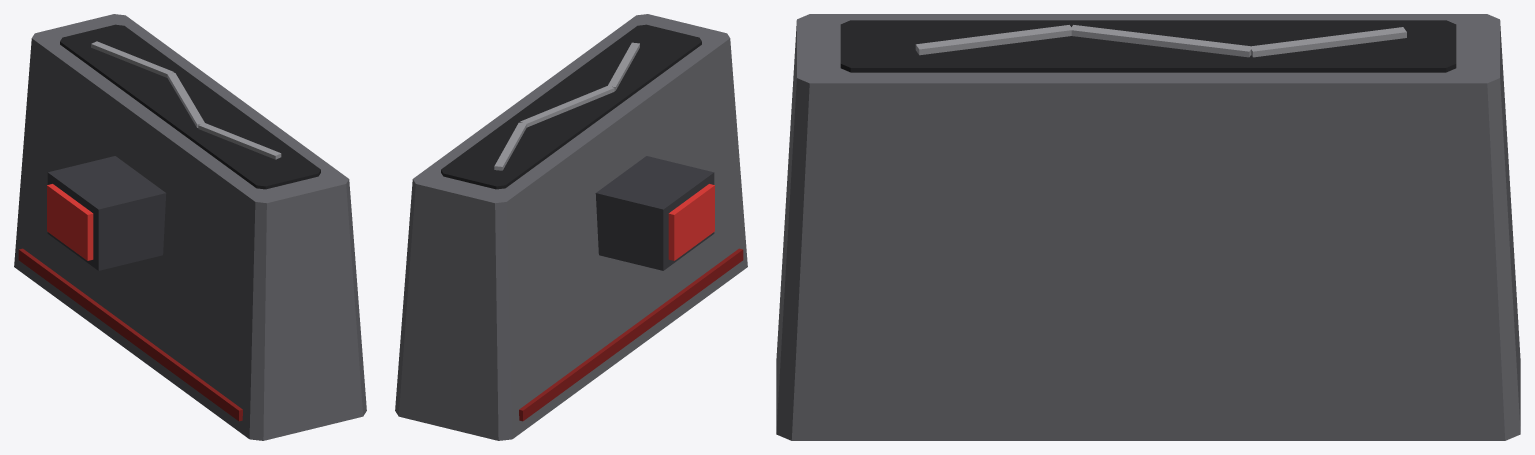
File: void_monolith_right_c.obj
The picture shows the model from 3 angles, left to right: view 1: azimuth 30°, elevation 25°; view 2: azimuth 150°, elevation 25°; view 3: azimuth 270°, elevation 25°; orthographic projection. The views are drawn at different scales.
Visible parts, largest first — view 1: void_monolith_right_c_0, void_monolith_right_c_1, void_monolith_right_c_5, void_monolith_right_c_7, void_monolith_right_c_6, void_monolith_right_c_2, void_monolith_right_c_4, void_monolith_right_c_3; view 2: void_monolith_right_c_0, void_monolith_right_c_1, void_monolith_right_c_5, void_monolith_right_c_7, void_monolith_right_c_6, void_monolith_right_c_3, void_monolith_right_c_4, void_monolith_right_c_2; view 3: void_monolith_right_c_0, void_monolith_right_c_1, void_monolith_right_c_3, void_monolith_right_c_2, void_monolith_right_c_4.
Part boxes in pixels (x1,y1,x2,y2): void_monolith_right_c_0: (14, 14, 366, 440); void_monolith_right_c_1: (60, 24, 320, 189); void_monolith_right_c_5: (47, 156, 166, 270); void_monolith_right_c_7: (18, 248, 242, 421); void_monolith_right_c_6: (47, 184, 93, 260); void_monolith_right_c_2: (198, 123, 281, 159); void_monolith_right_c_4: (91, 41, 174, 77); void_monolith_right_c_3: (167, 73, 204, 127); void_monolith_right_c_0: (395, 14, 747, 440); void_monolith_right_c_1: (441, 24, 701, 189); void_monolith_right_c_5: (595, 156, 714, 270); void_monolith_right_c_7: (519, 248, 743, 421); void_monolith_right_c_6: (668, 184, 714, 260); void_monolith_right_c_3: (520, 85, 614, 127); void_monolith_right_c_4: (494, 122, 526, 170); void_monolith_right_c_2: (608, 42, 639, 90); void_monolith_right_c_0: (776, 14, 1520, 440); void_monolith_right_c_1: (840, 20, 1456, 72); void_monolith_right_c_3: (1070, 25, 1252, 57); void_monolith_right_c_2: (915, 25, 1072, 55); void_monolith_right_c_4: (1251, 27, 1406, 57).
Size of the model in its own units: 1.24 by 1.54 by 2.9.
